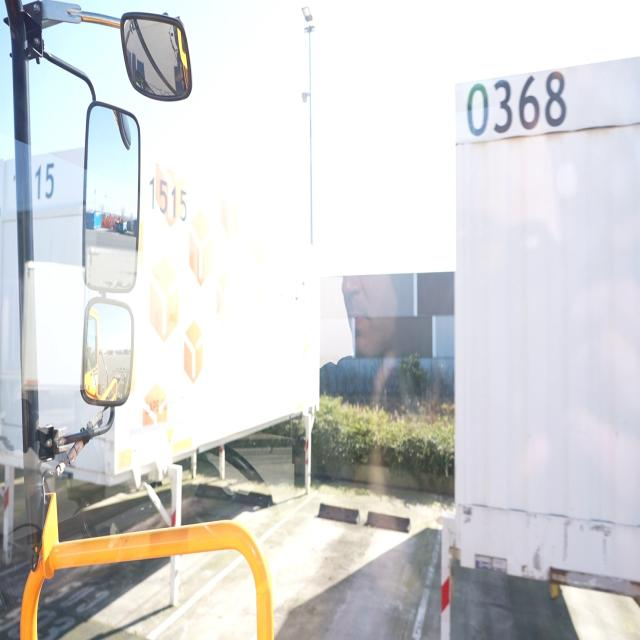Code: (463, 68, 569, 154), (143, 162, 191, 230)
